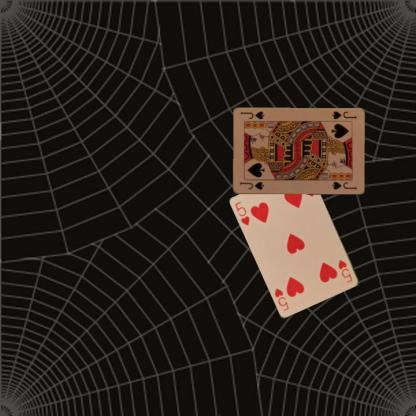5h: (233, 199, 251, 227), (336, 257, 354, 284)
Js: (329, 109, 357, 121), (237, 180, 264, 191)
